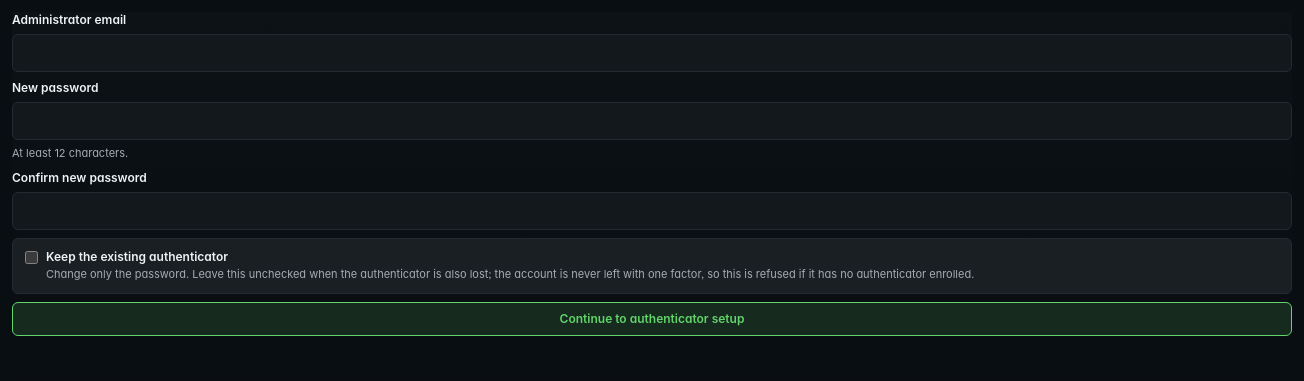
AdministratorPasswordReset › validates the new password locally before spending a request
Type "ops@example.com" into the field labelled "Administrator email".
click(652, 53); type("ops@example.com")  # box [12,34,1292,72]
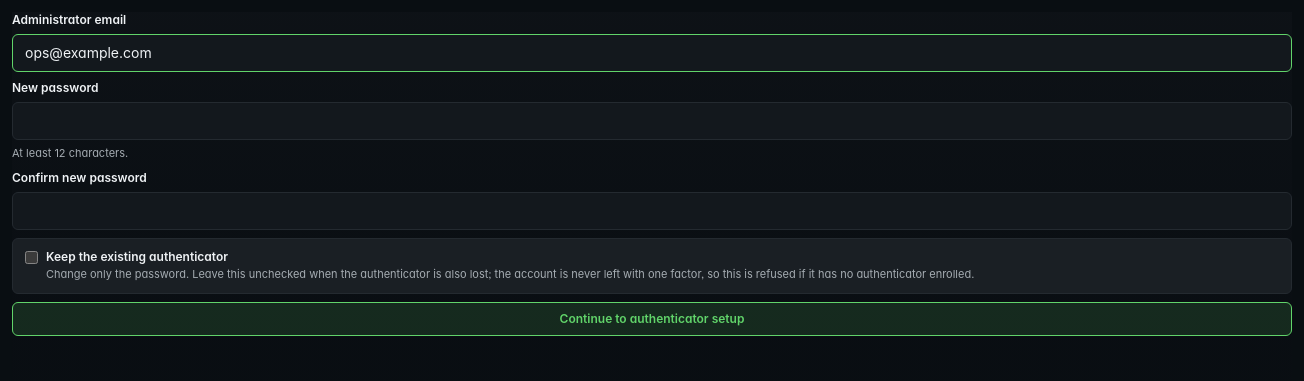
Type "correct horse battery staple" into the password field labelled "New password At least 12 characters.".
click(652, 121); type("correct horse battery staple")  # box [12,102,1292,140]
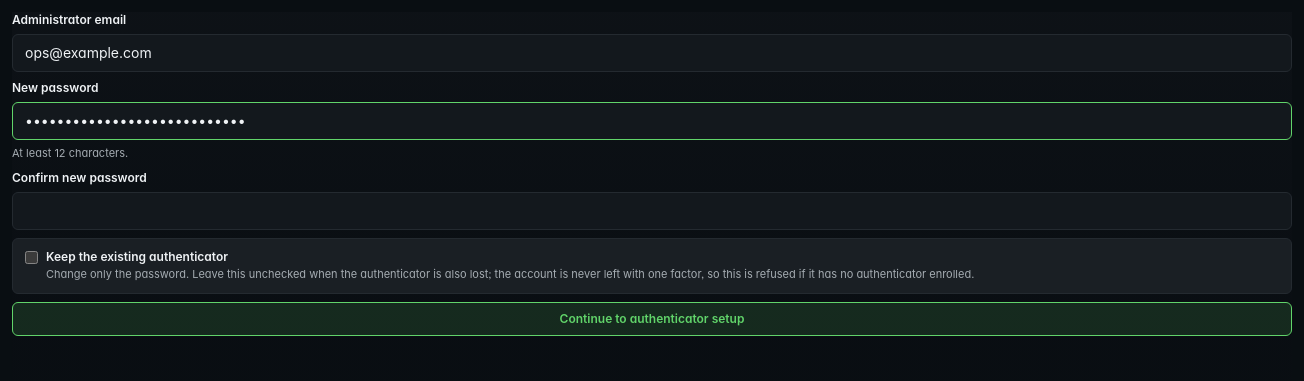
Type "different" into the password field labelled "Confirm new password".
click(652, 211); type("different")  # box [12,192,1292,230]
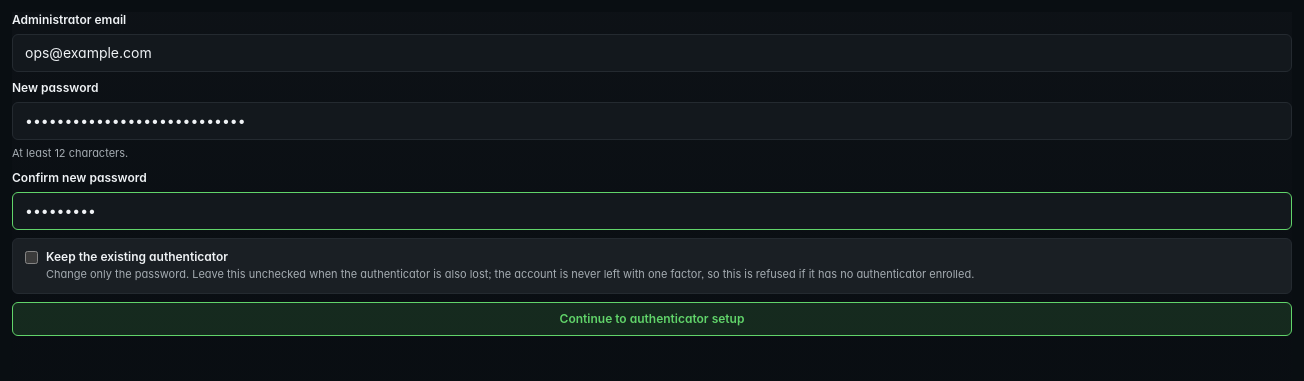
Click the button "Continue to authenticator setup".
click(652, 319)  # box [12,302,1292,336]
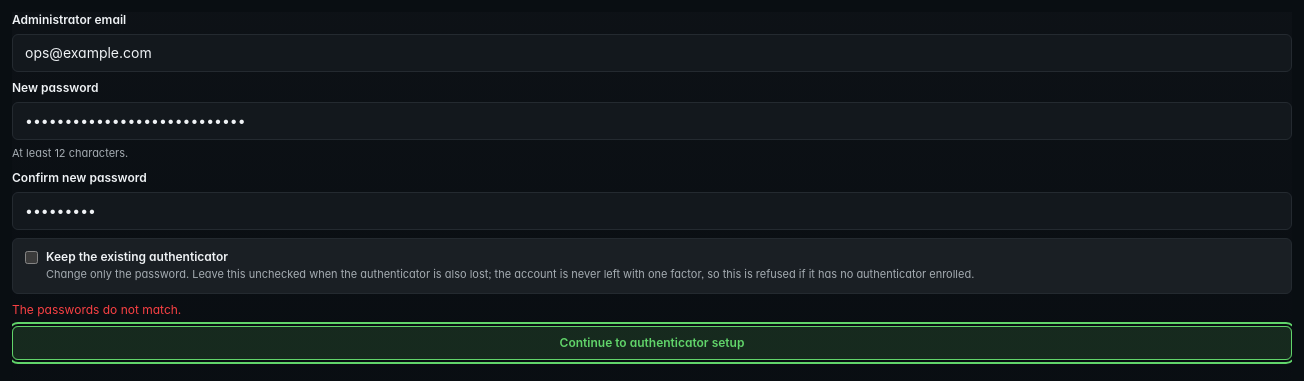
Check: the text "The passwords do not match." is shown, box [12,302,181,317]
